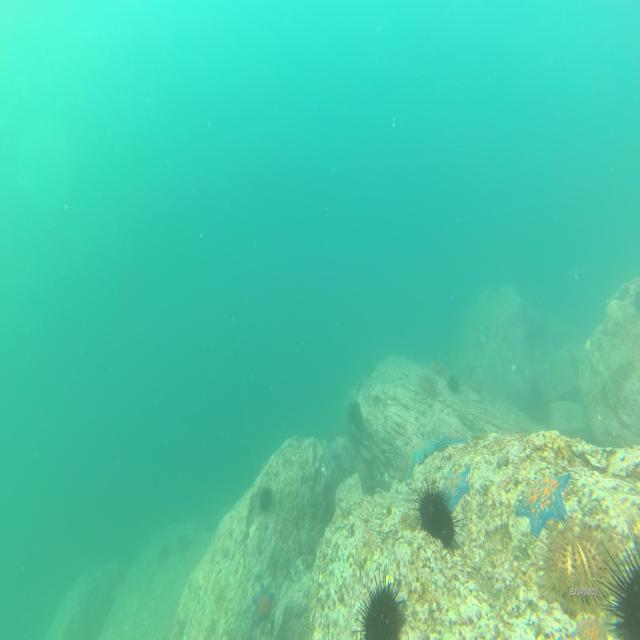echinus: (532, 522, 615, 615), (598, 524, 640, 640), (352, 567, 412, 640), (412, 478, 462, 558), (414, 370, 436, 402), (346, 396, 363, 434), (258, 482, 276, 514), (157, 538, 173, 568), (447, 368, 462, 399), (176, 529, 192, 557)
starfish: (514, 468, 572, 536), (440, 467, 470, 511), (250, 581, 276, 631), (406, 438, 438, 476), (438, 429, 472, 451)
